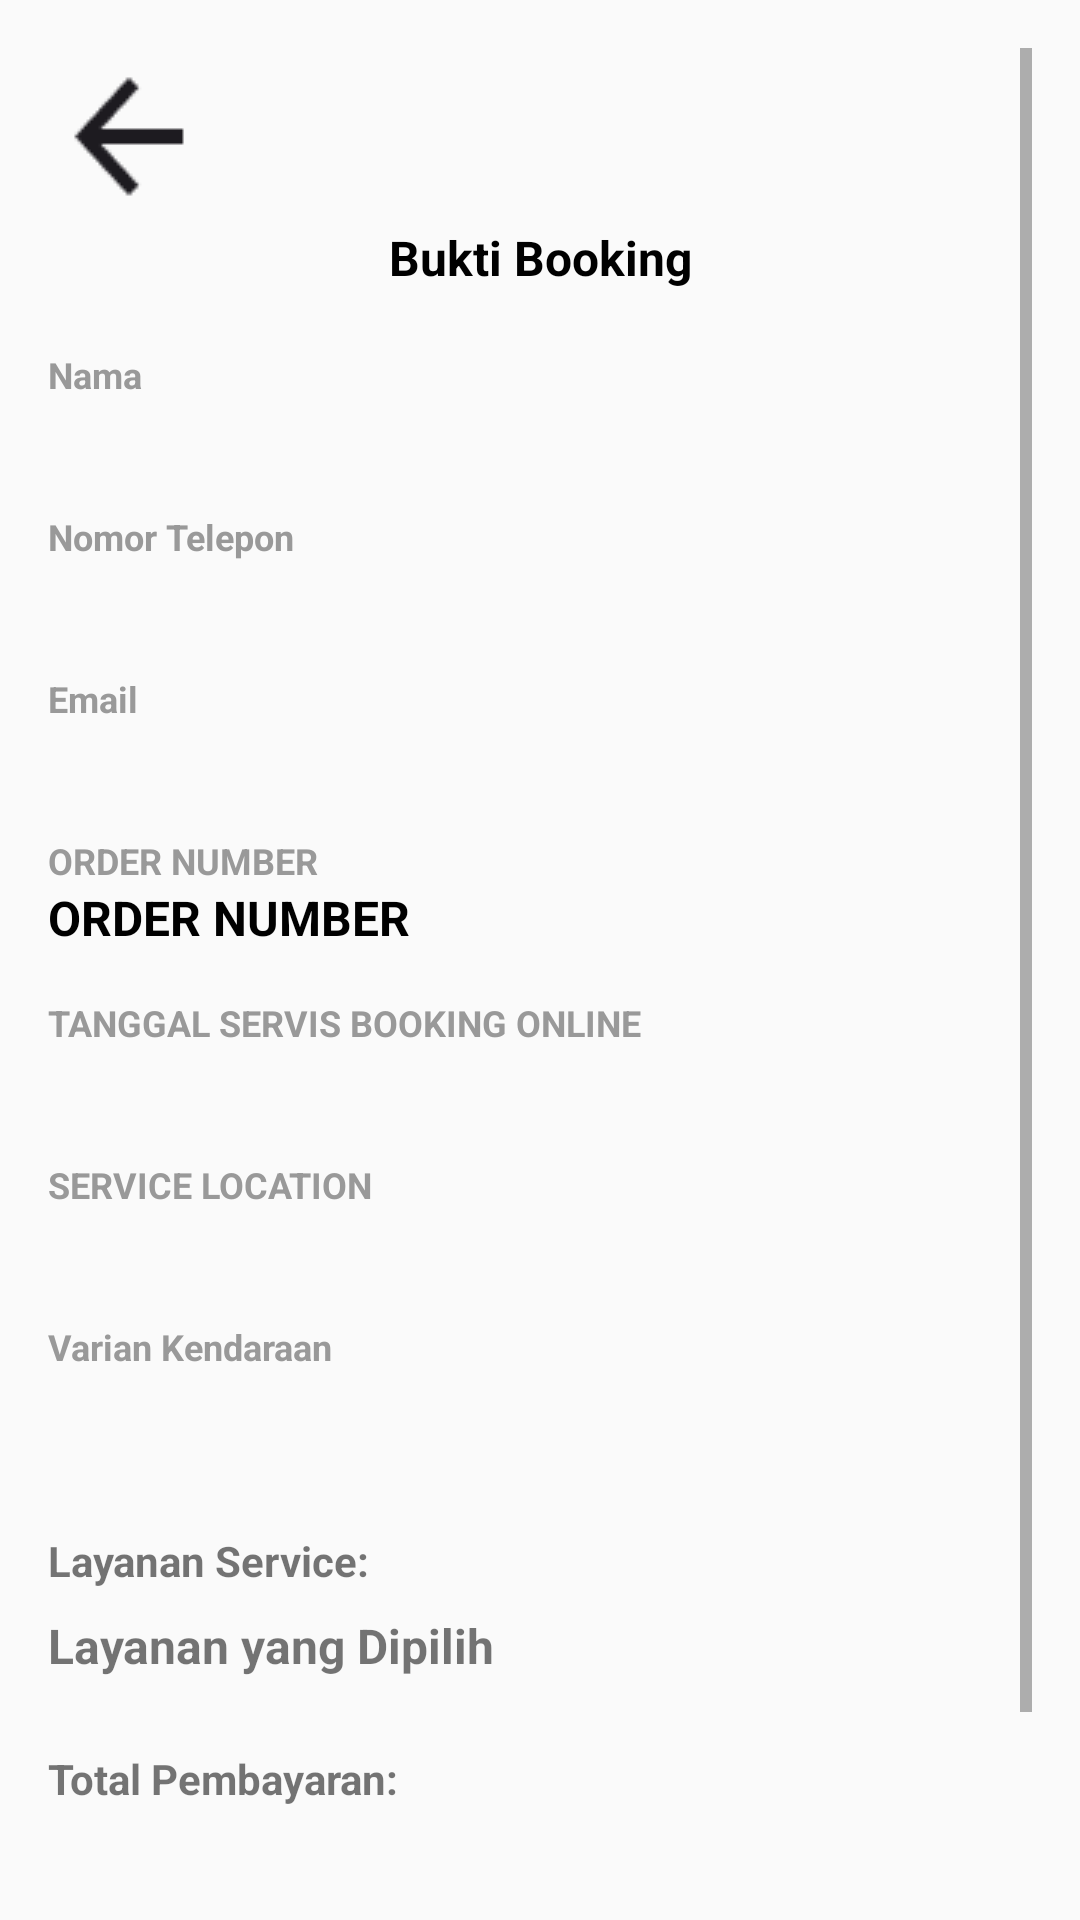

Icon click points for this 1080w x 1920h phone screenshot, format [x,y]:
Back: [129,136]
